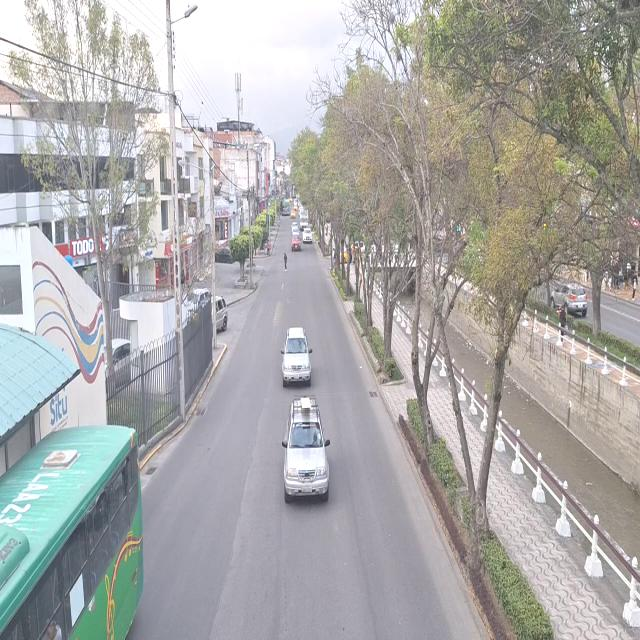BUS: (0, 435, 132, 640)
SUV: (283, 401, 327, 506), (282, 328, 310, 384), (552, 280, 588, 316)
